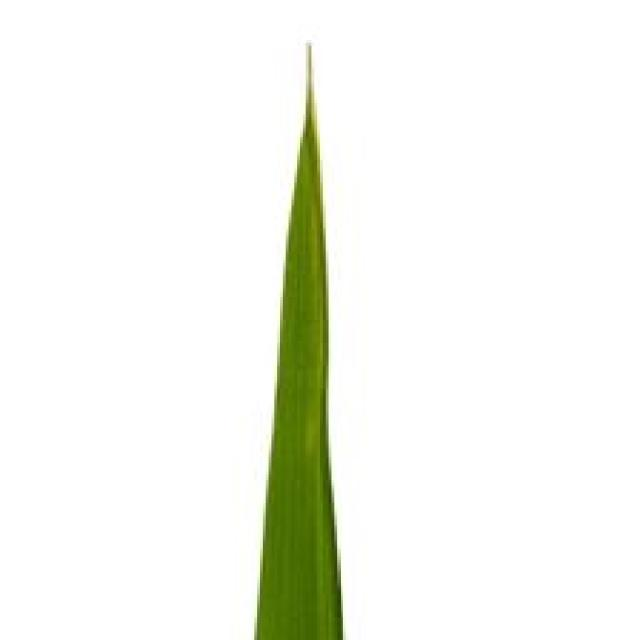Rice___Healthy_Rice_Plant: (256, 38, 344, 637)
